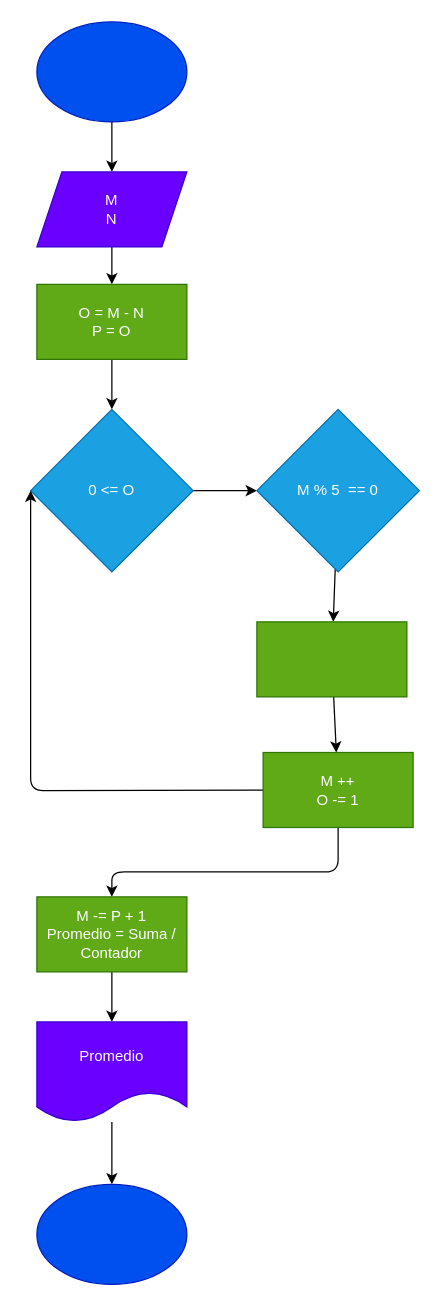
The diagram is 441 pixels wide and 1306 high, and some of its shapes have lost their labels. The box of each missing label's shape, as (x1, y1, x2, y2) in pixels:
FIN: (36, 1183, 187, 1284)
INICIO: (36, 21, 187, 122)
Suma += M Contador++: (256, 621, 407, 697)
